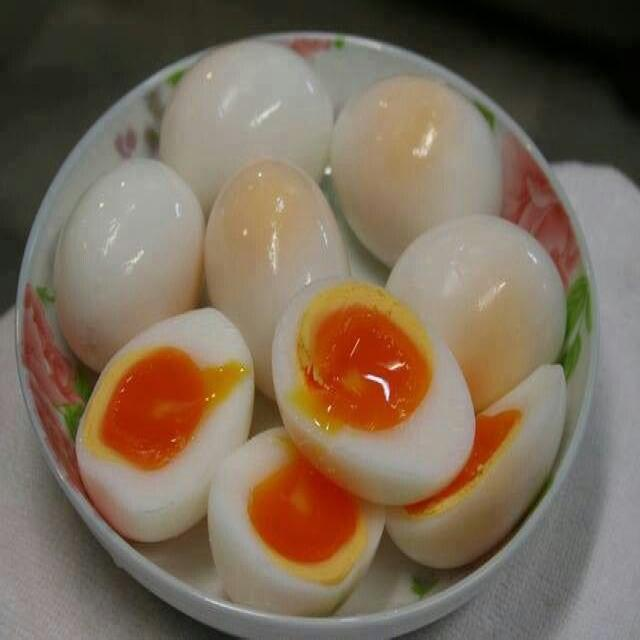egg boiled: (273, 280, 474, 504), (76, 308, 253, 542), (387, 366, 565, 567), (387, 217, 565, 411), (205, 160, 348, 398), (208, 429, 383, 615), (331, 76, 501, 267), (54, 160, 203, 371), (159, 41, 332, 216)
